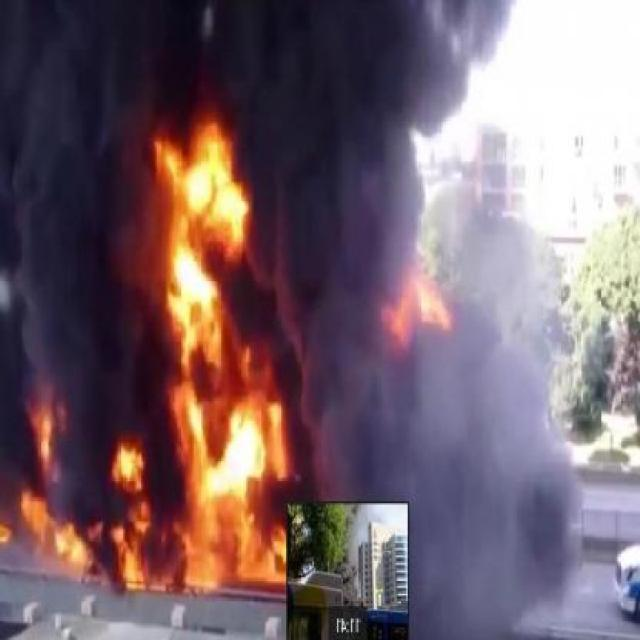Fire: (11, 124, 452, 576)
